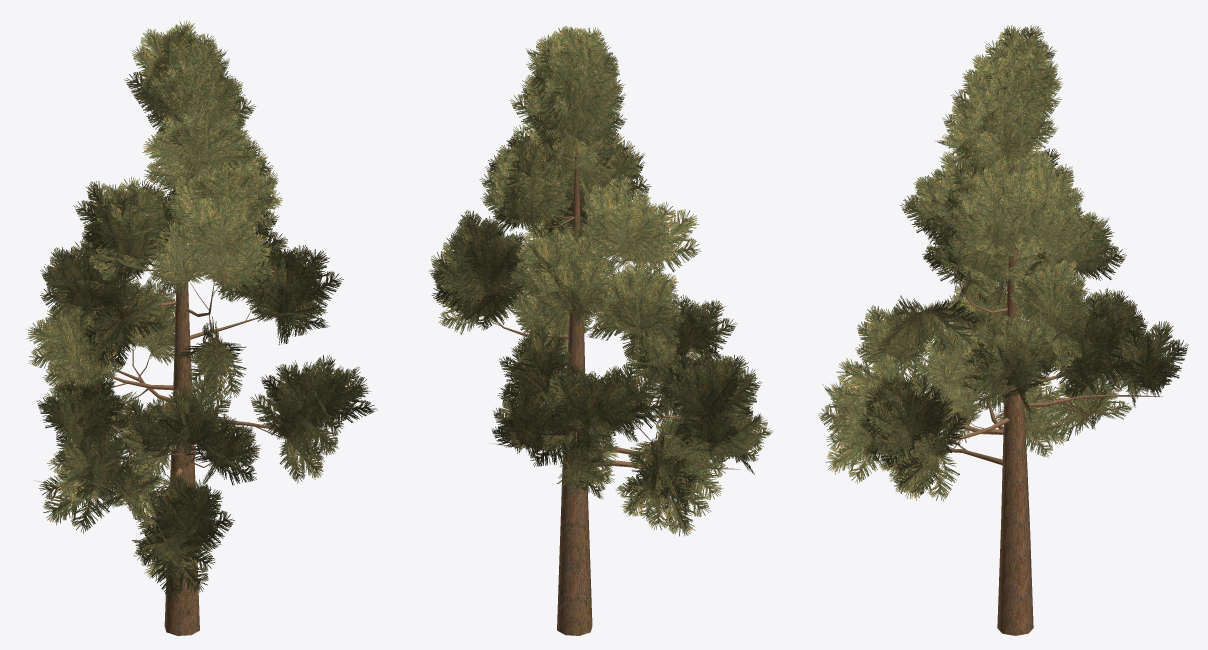
The model's file is ponderosa-2.glb.
3 views of the same model, side by side, from view 1: azimuth 30°, elevation 25°; view 2: azimuth 150°, elevation 25°; view 3: azimuth 270°, elevation 25° (orthographic).
Parts seen in each view (by area): view 1: eztree-ponderosa-2; view 2: eztree-ponderosa-2; view 3: eztree-ponderosa-2.
Boxes of the visible parts, x1,y1,x2,y2 form: eztree-ponderosa-2: (27, 20, 377, 635); eztree-ponderosa-2: (428, 26, 773, 635); eztree-ponderosa-2: (818, 25, 1188, 635).
Size of the model in its own units: 5.33 by 10 by 5.71.
2 materials, 2 textured.
